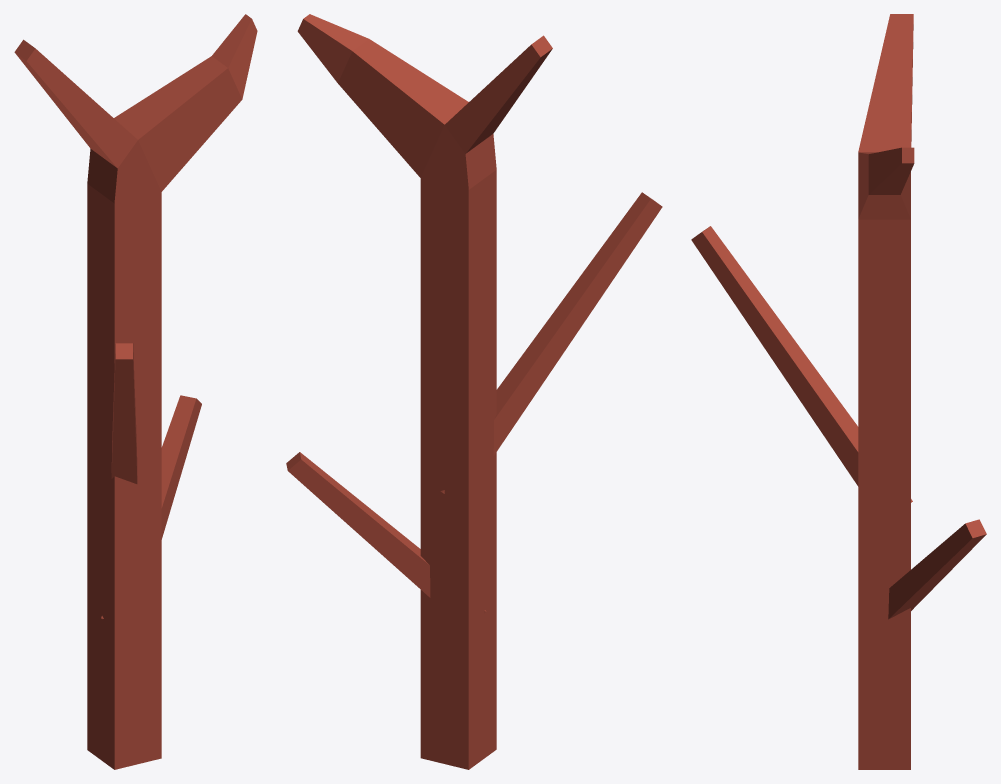
The model's file is pine tree 0.fbx.
3 renders of one model, left to right at view 1: azimuth 30°, elevation 25°; view 2: azimuth 150°, elevation 25°; view 3: azimuth 270°, elevation 25°, orthographic. The views are drawn at different scales.
Visible parts, largest first — view 1: pine 0; view 2: pine 0; view 3: pine 0.
Part boxes in pixels (x1,y1,x2,y2): pine 0: (14, 14, 257, 769); pine 0: (286, 14, 662, 769); pine 0: (691, 14, 986, 769).
Size of the model in its own units: 17.53 by 49.32 by 18.78.
